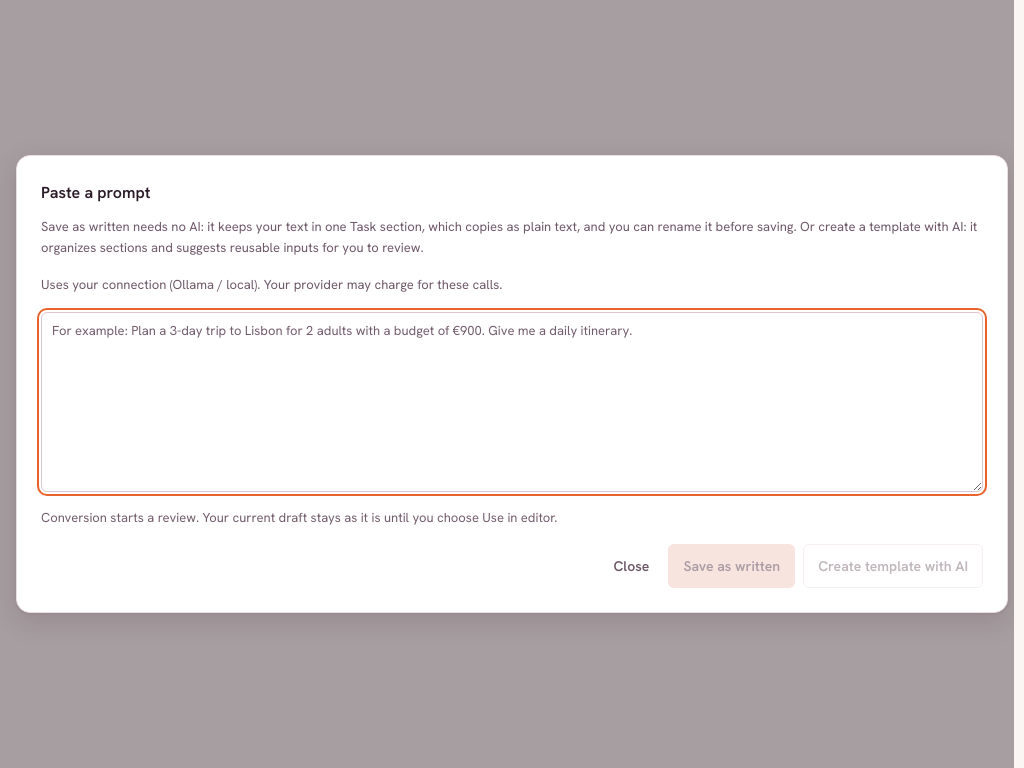
it: says original inputs are filled in only when the conversion found values
This screenshot has width=1024, height=768.
Replace the text in the text box named "Prompt to convert" with "Plan a 3-day trip to Lisbon.": (512, 402) [41,312,983,492]
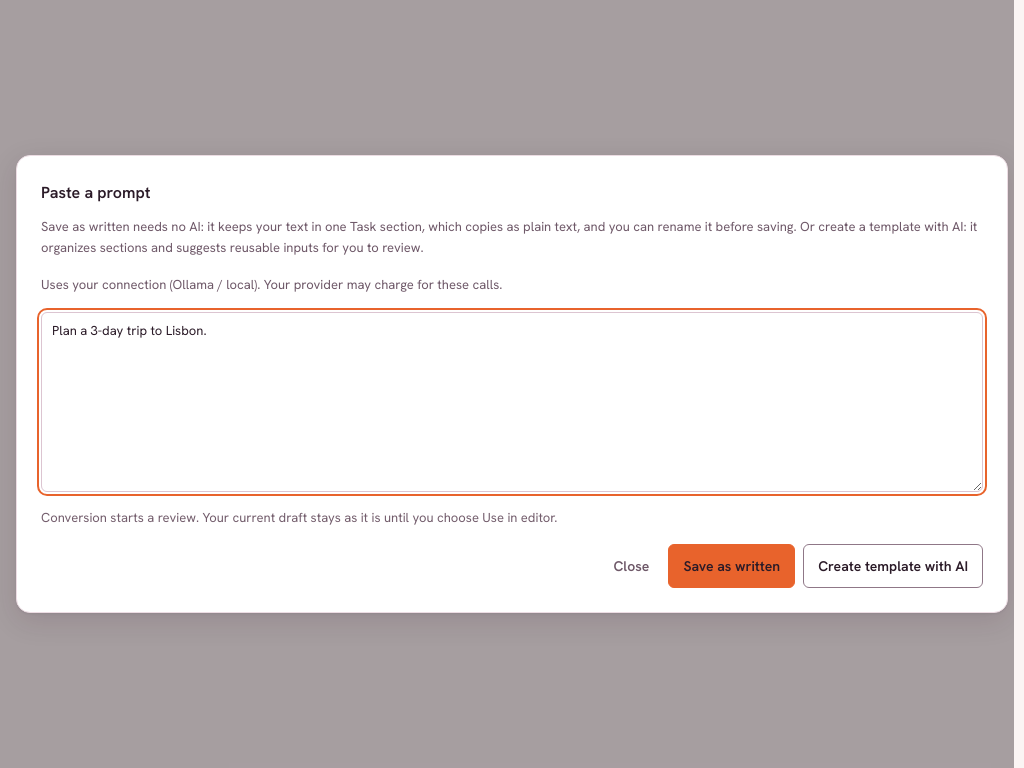
Click the button "Create template with AI": (893, 566) [803,544,983,588]
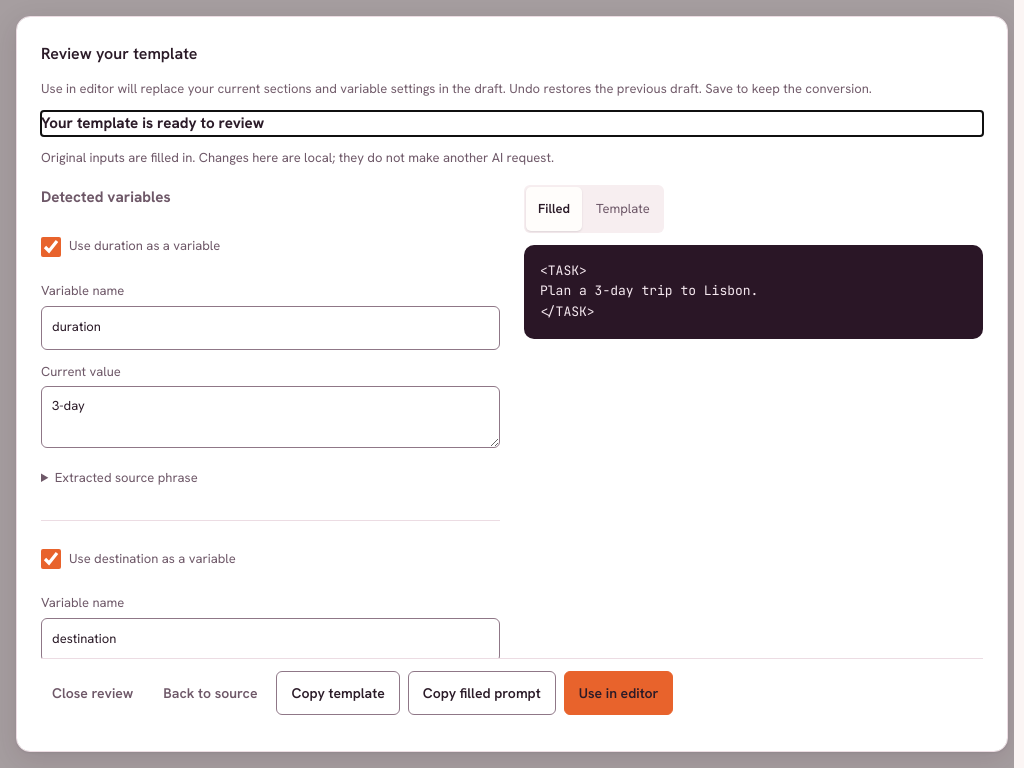
Result: the button "Use in editor" is shown at [564,671,674,715]
Result: the text "Original inputs are filled in." is shown at [41,149,195,166]
